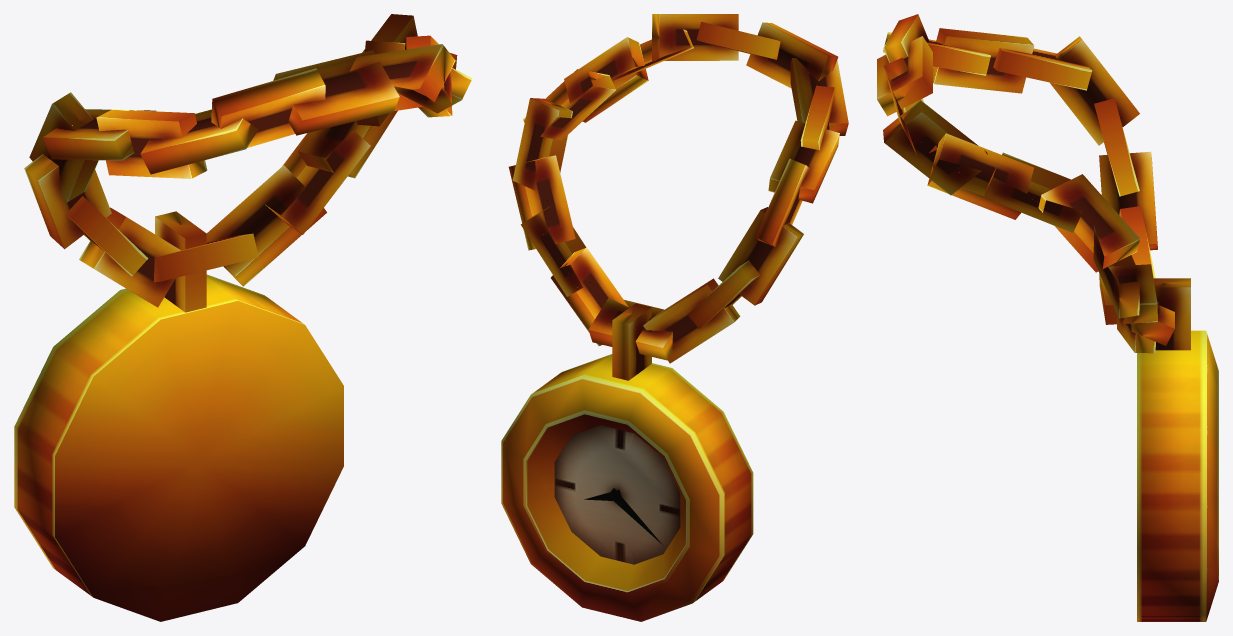
The model's file is goldChainClock.glb.
3 renders of one model, left to right at view 1: azimuth 30°, elevation 25°; view 2: azimuth 150°, elevation 25°; view 3: azimuth 270°, elevation 25°, orthographic. The views are drawn at different scales.
Visible parts, largest first — view 1: goldChainClock; view 2: goldChainClock; view 3: goldChainClock.
Part boxes in pixels (x1,y1,x2,y2): goldChainClock: [14, 14, 472, 621]; goldChainClock: [501, 14, 848, 621]; goldChainClock: [877, 14, 1218, 621].
Size of the model in its own units: 4.07 by 6.63 by 3.69.
Materials: 1 (1 with a texture image).
